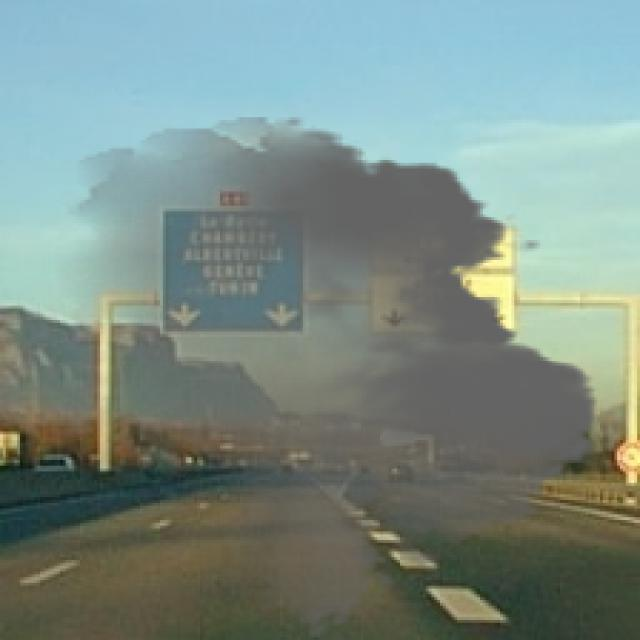Smoke: (49, 117, 620, 637)
